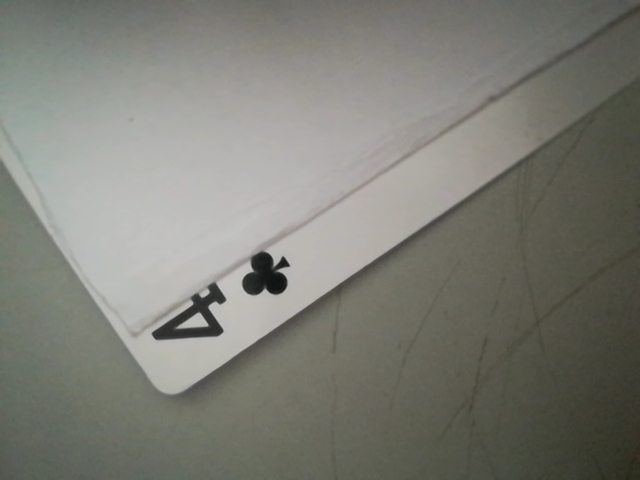mh 4: (140, 239, 307, 363)
